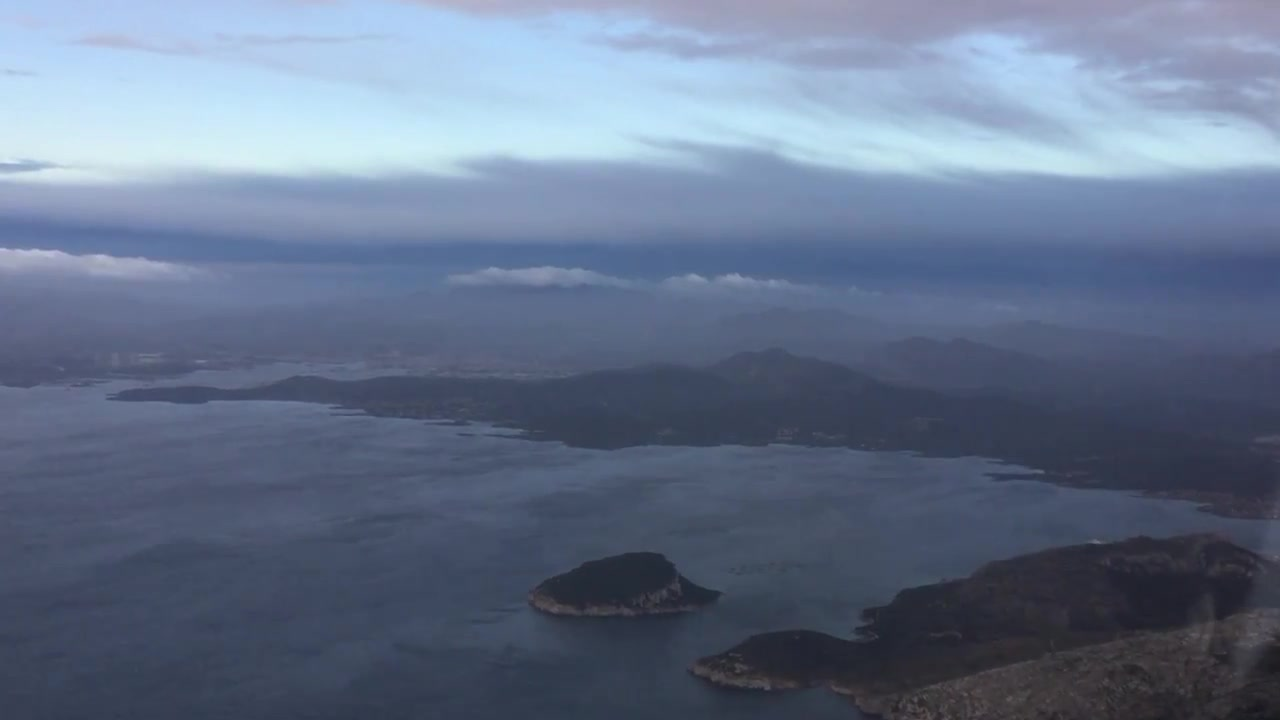runway: (109, 349, 123, 373)
